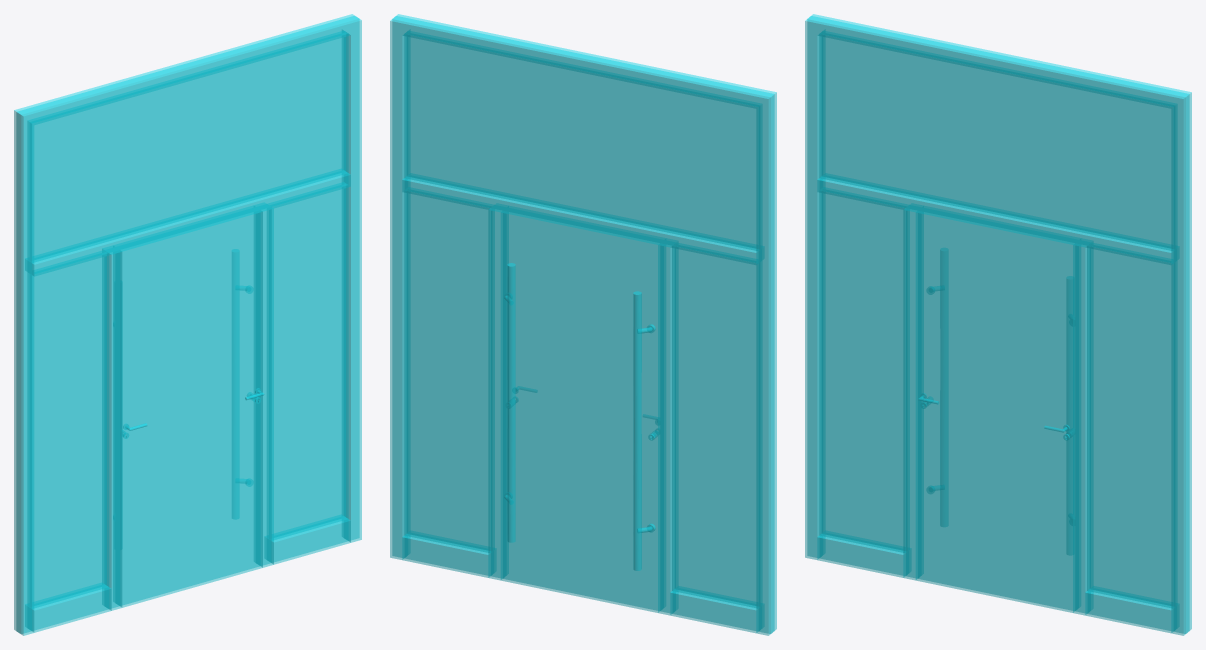
Rendered from zeHGW_openings.glb.
The picture shows the model from 3 angles, left to right: view 1: azimuth 30°, elevation 25°; view 2: azimuth 150°, elevation 25°; view 3: azimuth 330°, elevation 25°; orthographic projection. The views are drawn at different scales.
Parts seen in each view (by area): view 1: world; view 2: world; view 3: world.
Part boxes in pixels (x1,y1,x2,y2): world: [14, 14, 361, 635]; world: [390, 14, 776, 635]; world: [805, 14, 1191, 635].
Size of the model in its own units: 2.49 by 3.5 by 0.2989.
